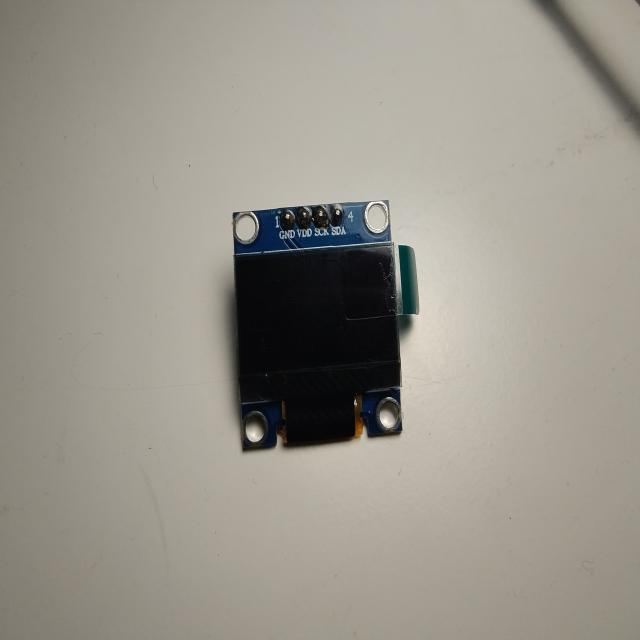oled: (227, 197, 429, 460)
